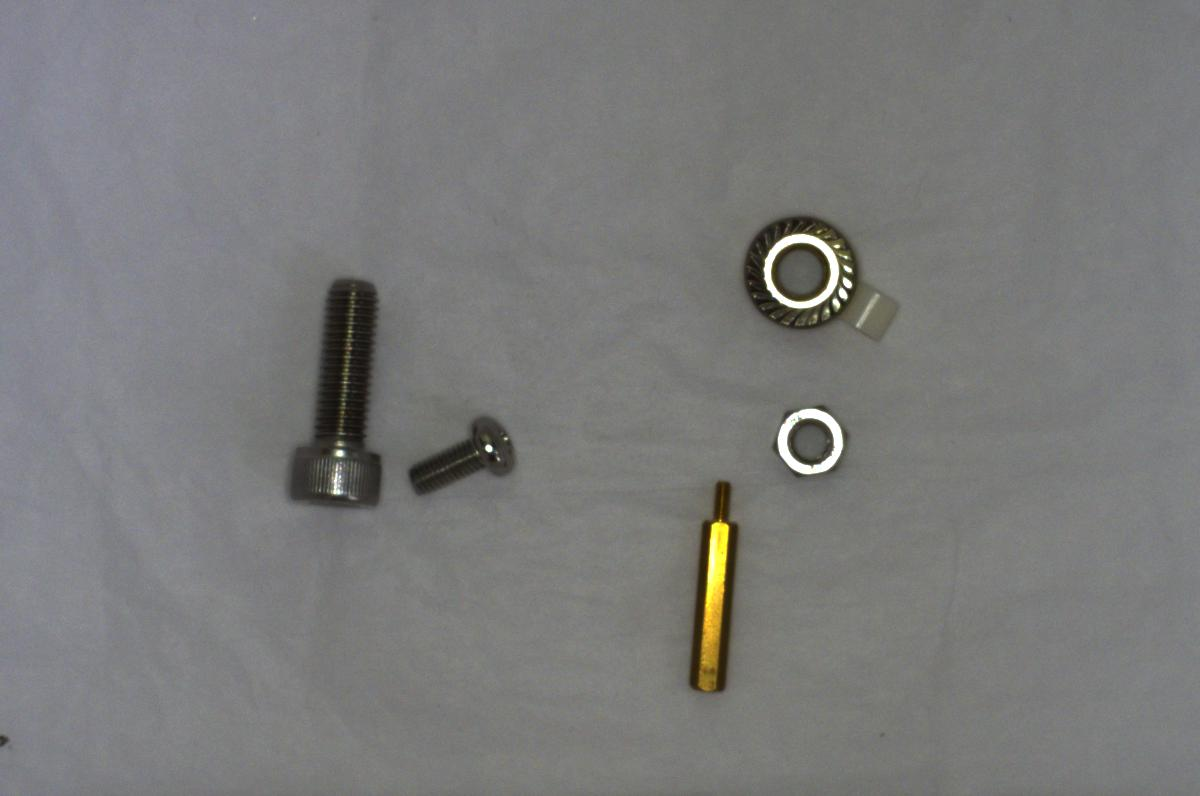Flange nut: (734, 206, 859, 333)
Hexagon nut: (757, 399, 853, 479)
Hexagon pillar: (681, 474, 742, 701)
Hexagon screw: (281, 272, 394, 514)
Plastic cushion pillar: (840, 275, 908, 348)
Round head screw: (402, 406, 524, 503)
